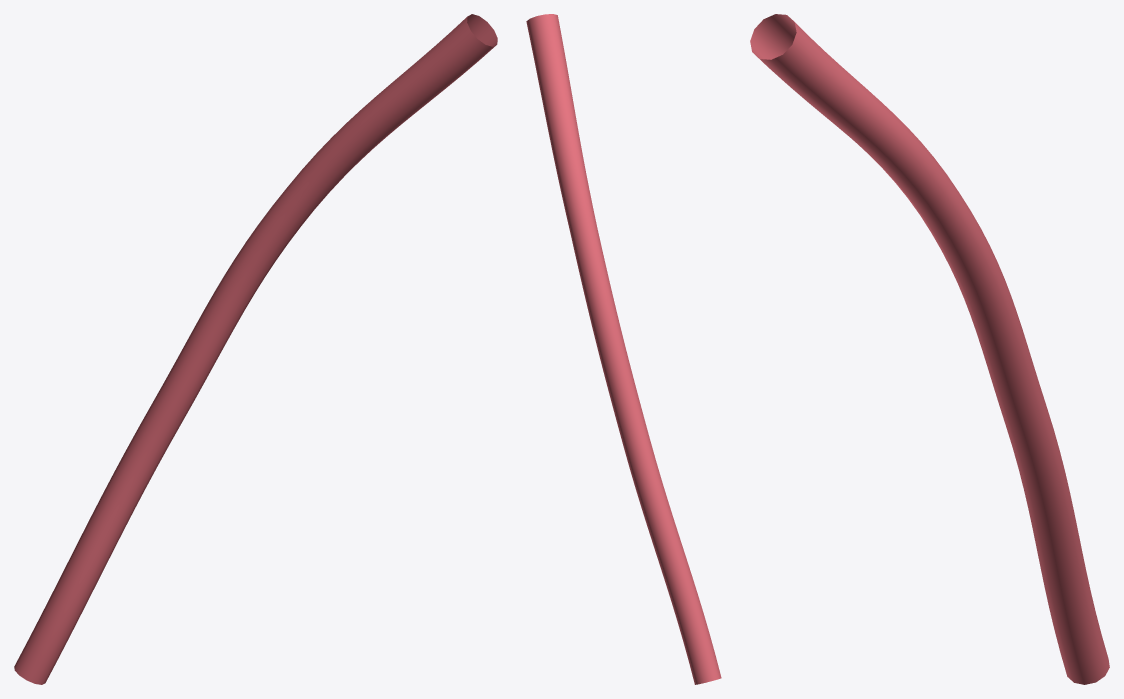
3 views of the same model, side by side, from view 1: azimuth 30°, elevation 25°; view 2: azimuth 150°, elevation 25°; view 3: azimuth 270°, elevation 25° (orthographic). The views are drawn at different scales.
Visible parts, largest first — view 1: ZA_6ab91ad7a0fde46d; view 2: ZA_6ab91ad7a0fde46d; view 3: ZA_6ab91ad7a0fde46d.
Boxes of the visible parts, left/top/right/bottom form: ZA_6ab91ad7a0fde46d: left=14, top=14, right=497, bottom=684; ZA_6ab91ad7a0fde46d: left=526, top=14, right=721, bottom=684; ZA_6ab91ad7a0fde46d: left=750, top=14, right=1109, bottom=684.
Bounding box in the file's own units: 0.0351 × 0.063 × 0.0239.
